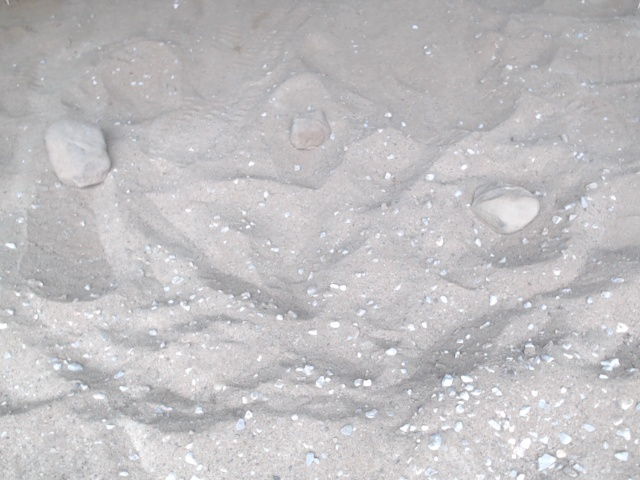rock: (40, 115, 114, 193), (466, 175, 545, 238), (287, 108, 333, 153)
